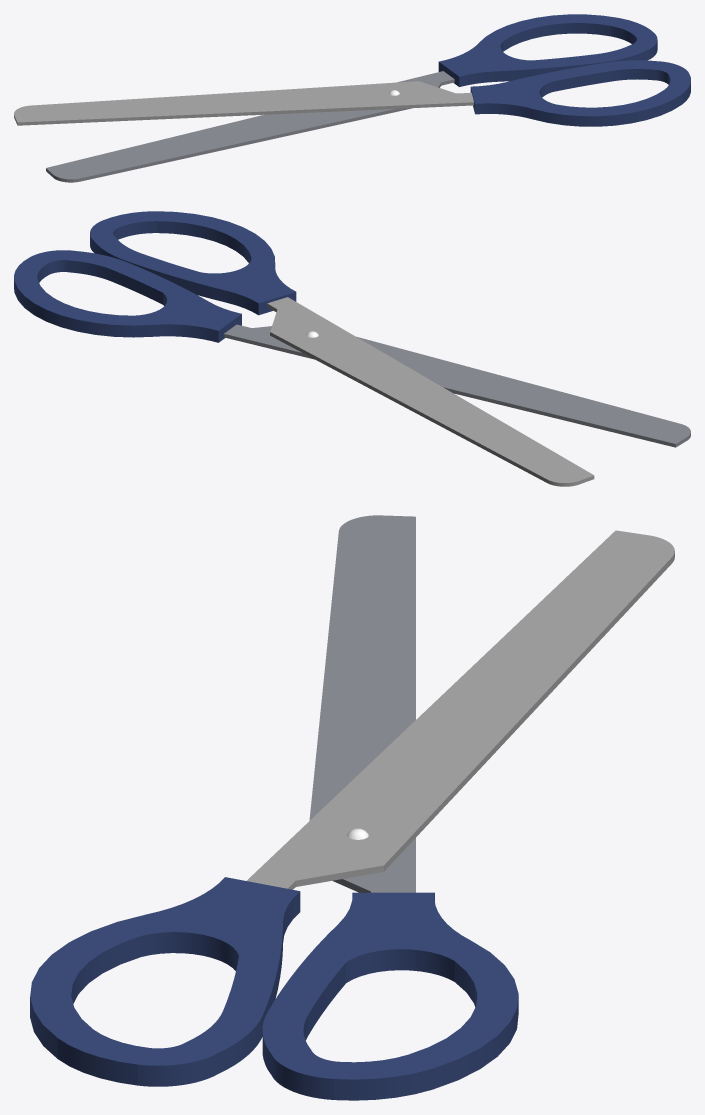
File: scissors_04_origin.dae
The picture shows the model from 3 angles, top to bottom: view 1: azimuth 30°, elevation 25°; view 2: azimuth 150°, elevation 25°; view 3: azimuth 270°, elevation 25°; orthographic projection. The views are drawn at different scales.
Visible parts, largest first — view 1: scissor (×3), scissor_1 (×3); view 2: scissor (×3), scissor_1 (×3); view 3: scissor (×3), scissor_1 (×3).
Boxes of the visible parts, left/top/right/bottom form: scissor (×3): left=14, top=60, right=690, bottom=126; scissor_1 (×3): left=46, top=14, right=657, bottom=182; scissor (×3): left=90, top=211, right=594, bottom=486; scissor_1 (×3): left=14, top=250, right=690, bottom=447; scissor (×3): left=30, top=530, right=674, bottom=1086; scissor_1 (×3): left=262, top=515, right=518, bottom=1100.
Bounding box in the file's own units: 9.29 × 4.39 × 0.165.
